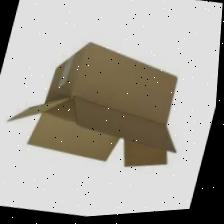cardboard: (0, 5, 205, 195)
